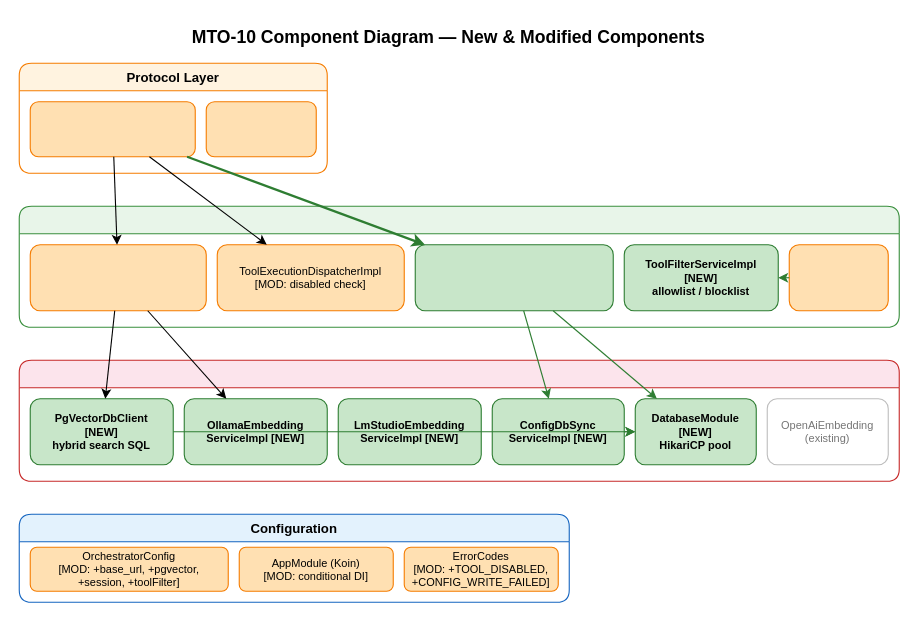
This 919x622 diagram has some shape labels left out. The shapes that lost their labels are listed below. From the top down, each one's box as (x1, y1, x2, y2) in pixels, then its label:
(29, 101, 195, 157): McpServerFactory [MODIFIED: +3 tools]
(205, 101, 316, 157): McpToolSchemas [MODIFIED: +3 schemas]
(29, 244, 206, 311): ToolDiscoveryServiceImpl [MOD: hybrid search, toggle filter]
(18, 205, 899, 327): Orchestration Layer
(414, 244, 613, 311): ToolManagementServiceImpl [NEW] toggle / reset / auto-approve
(788, 244, 888, 311): ToolIndexer [MOD: +filter]
(18, 359, 899, 481): Infrastructure Layer
